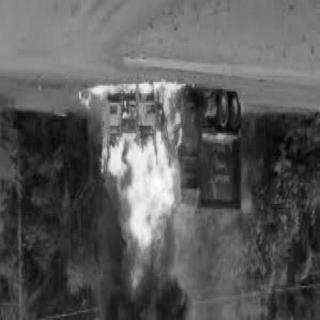Fire: (100, 73, 196, 271)
Smoke: (96, 253, 190, 320)
